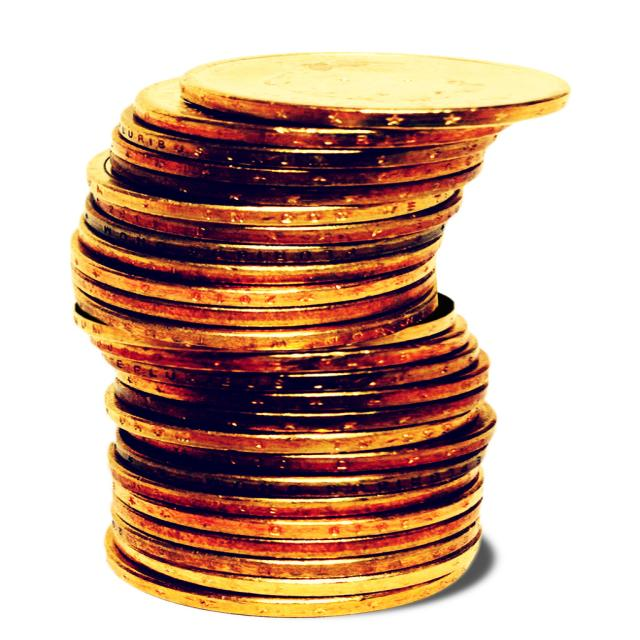Coin: (66, 49, 576, 617)
